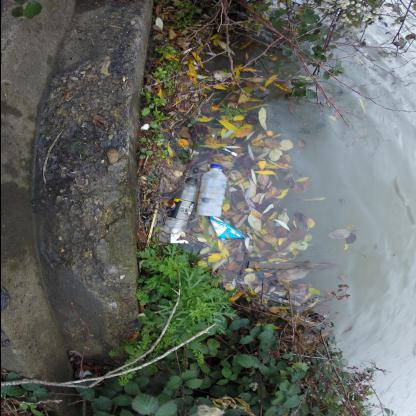plastik: (163, 178, 199, 236), (196, 166, 228, 219)
